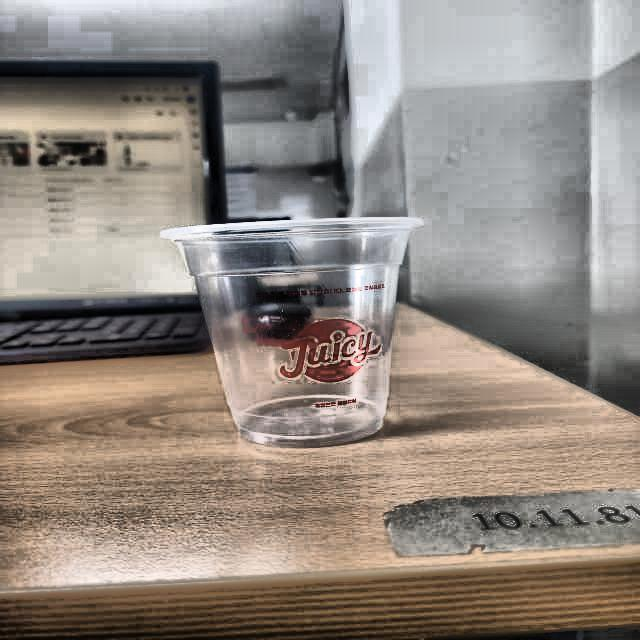plastic cup: (161, 214, 428, 444)
